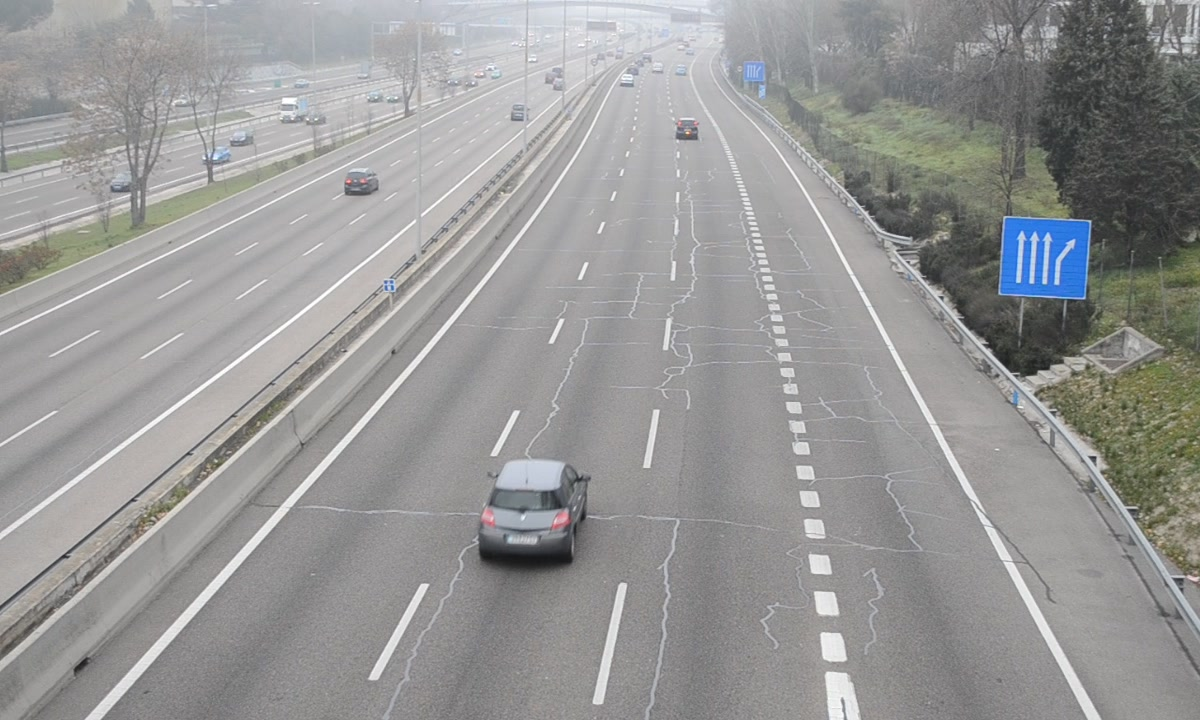car: (479, 462, 583, 561), (676, 117, 698, 140)
